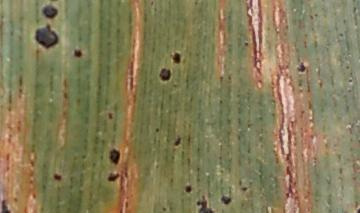tarspot: (34, 24, 59, 49), (40, 1, 60, 18), (195, 195, 213, 213), (109, 148, 120, 166), (158, 67, 172, 81), (170, 51, 183, 65), (1, 198, 12, 213), (219, 195, 232, 206), (107, 173, 121, 182), (72, 48, 83, 59), (296, 61, 306, 73), (183, 184, 193, 194), (51, 173, 62, 182), (173, 135, 181, 147), (106, 111, 114, 119), (341, 17, 349, 24), (217, 74, 224, 82), (226, 73, 232, 82), (154, 126, 161, 133), (240, 185, 247, 192), (337, 32, 345, 38), (347, 78, 354, 84), (351, 6, 357, 13), (243, 41, 249, 47), (161, 206, 167, 212), (217, 98, 223, 104), (314, 12, 318, 19), (356, 207, 360, 213)
